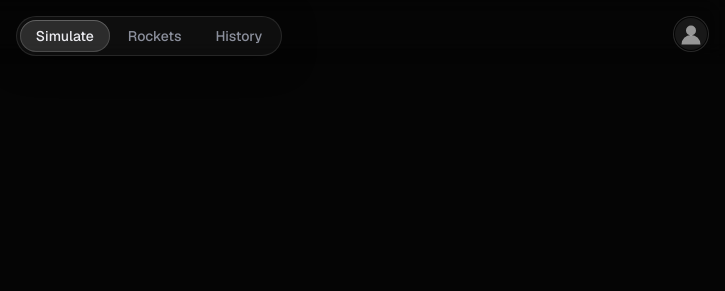
Test: AccountMenu › closes on Escape and gives focus back to the avatar
This screenshot has width=725, height=291.
Click the button named "Account" at (691, 34), box left=673, top=16, right=709, bottom=52
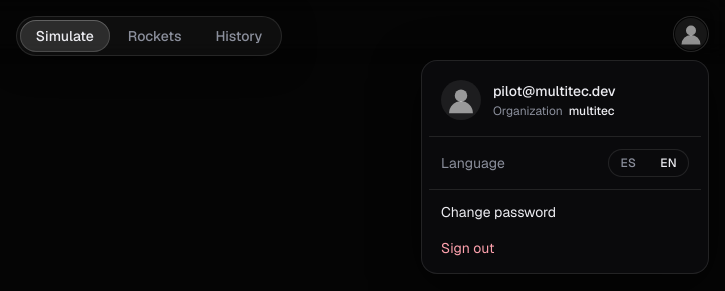
Press Escape
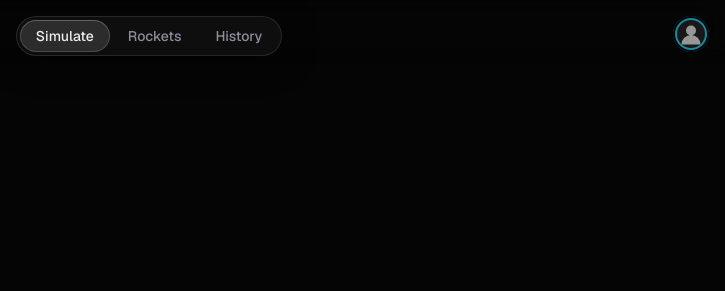
Expected: the button named "Account" is collapsed, left=673, top=16, right=709, bottom=52
Expected: the text "pilot@multitec.dev" is gone
